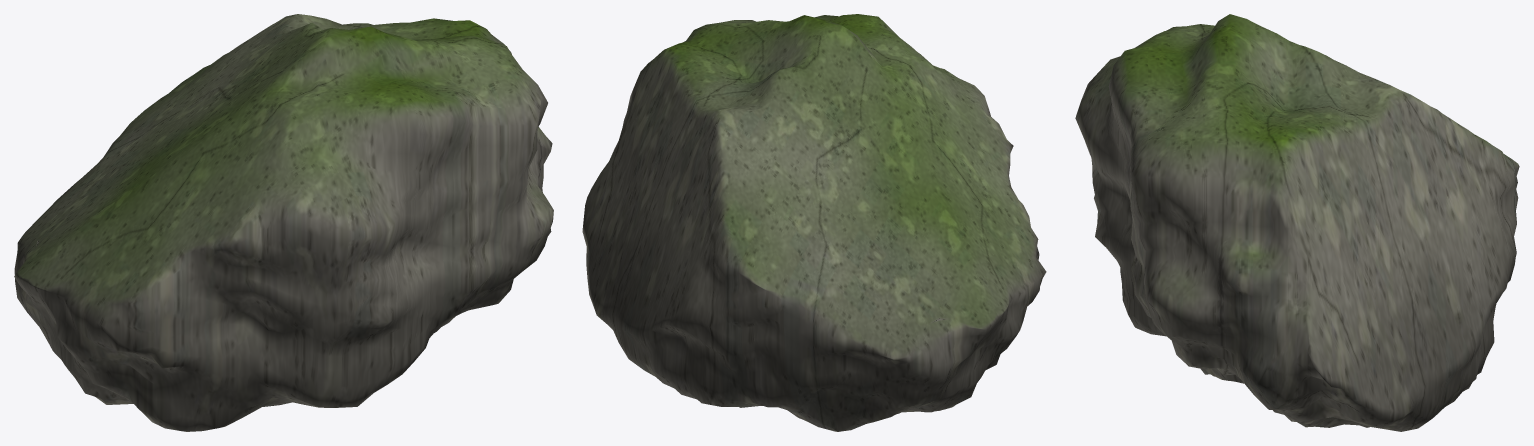
The model's file is rock-mossy-1.full.glb.
3 renders of one model, left to right at view 1: azimuth 30°, elevation 25°; view 2: azimuth 150°, elevation 25°; view 3: azimuth 270°, elevation 25°, orthographic. The views are drawn at different scales.
Visible parts, largest first — view 1: model; view 2: model; view 3: model.
Boxes of the visible parts, x1,y1,x2,y2 form: model: (14,14,553,431); model: (582,14,1046,431); model: (1075,14,1519,431).
Size of the model in its own units: 1 by 0.75 by 0.7926.
1 material, 1 textured.
